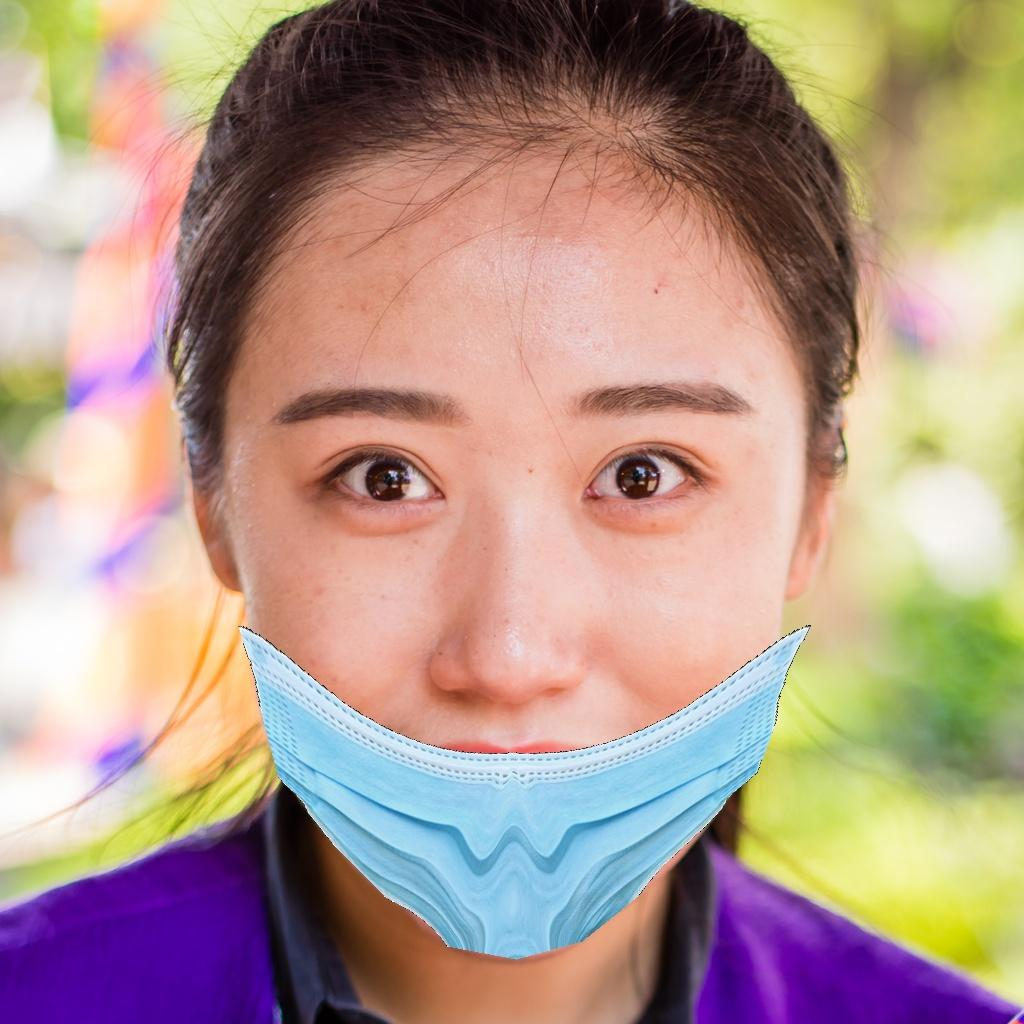Máscara Incorreta: (252, 228, 760, 910)
